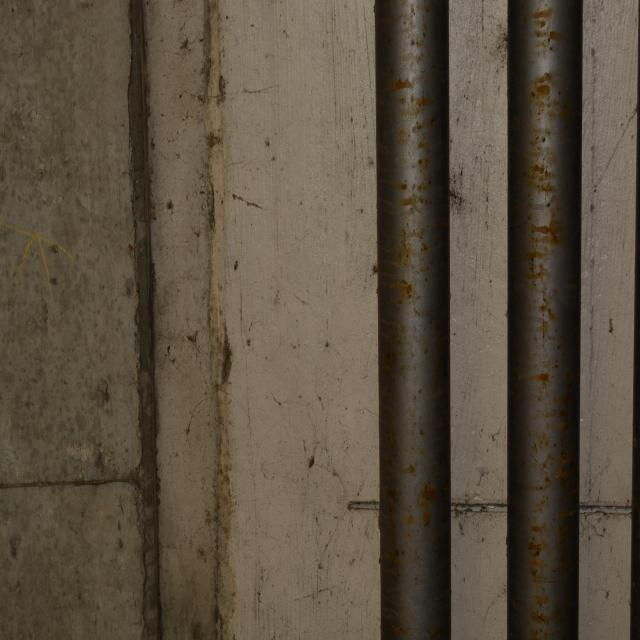corrosion: (375, 0, 457, 640), (506, 7, 587, 640)
